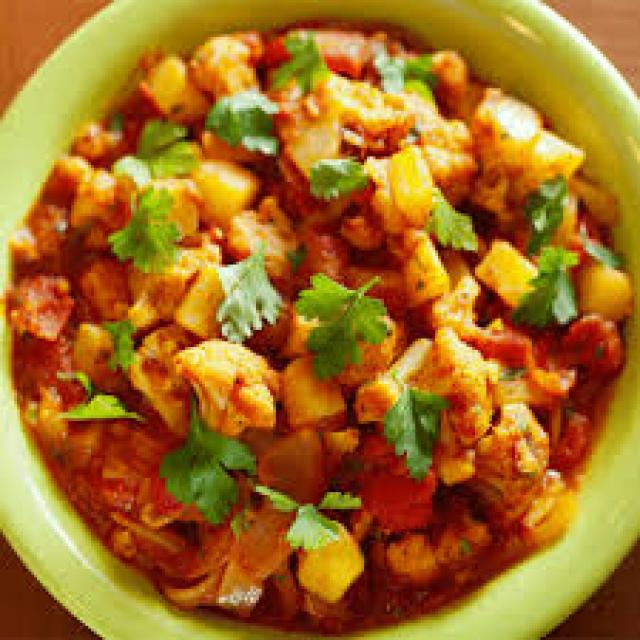Aloo Gobi: (140, 33, 500, 595)
